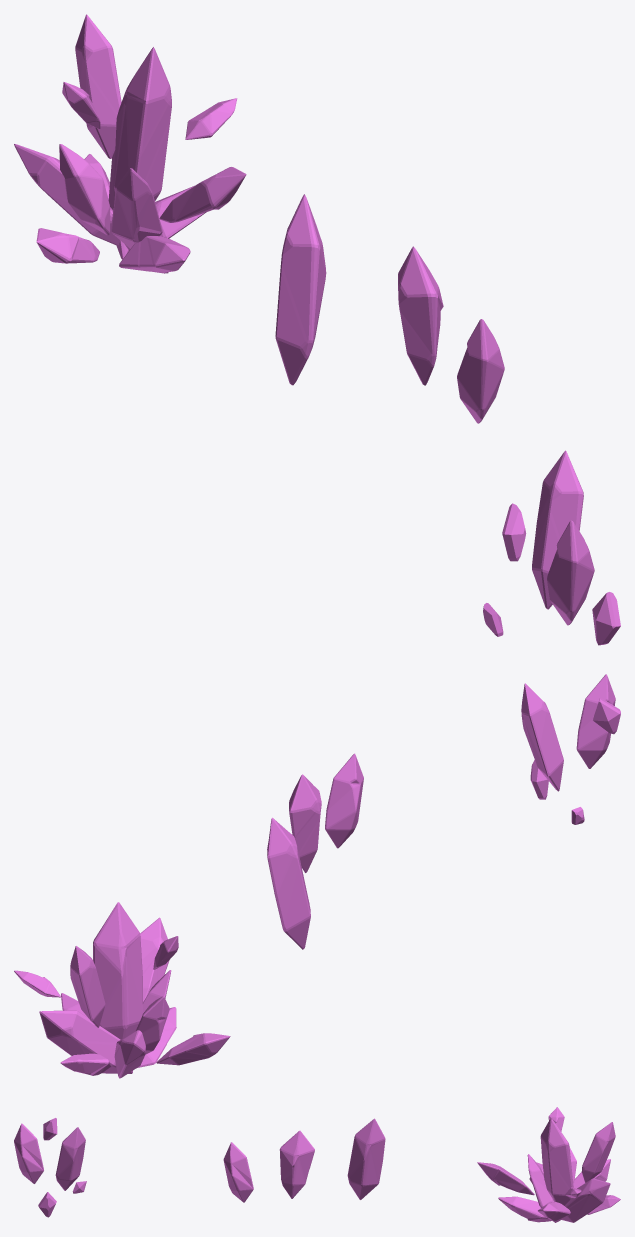
File: crystals.fbx
3 renders of one model, top to bottom at view 1: azimuth 30°, elevation 25°; view 2: azimuth 150°, elevation 25°; view 3: azimuth 270°, elevation 25°, orthographic. The views are drawn at different scales.
Parts seen in each view (by area): view 1: crystal clutter on a wall.001, many crystals, single crystal3, single crystal2, single crystal1; view 2: crystal clutter on a wall.001, many crystals, single crystal3, single crystal1, single crystal2; view 3: crystal clutter on a wall.001, many crystals, single crystal3, single crystal2, single crystal1.
Boxes of the visible parts, <box> form: crystal clutter on a wall.001: <box>14,14,246,273</box>; many crystals: <box>483,450,620,645</box>; single crystal3: <box>275,194,326,385</box>; single crystal2: <box>398,246,443,385</box>; single crystal1: <box>457,319,504,423</box>; crystal clutter on a wall.001: <box>14,902,230,1078</box>; many crystals: <box>521,674,620,824</box>; single crystal3: <box>267,817,310,949</box>; single crystal1: <box>325,753,363,848</box>; single crystal2: <box>289,774,321,872</box>; crystal clutter on a wall.001: <box>477,1107,620,1222</box>; many crystals: <box>14,1118,86,1217</box>; single crystal3: <box>347,1118,385,1199</box>; single crystal2: <box>279,1130,314,1198</box>; single crystal1: <box>223,1142,253,1202</box>.
Size of the model in its own units: 2089 by 1694 by 8376.
